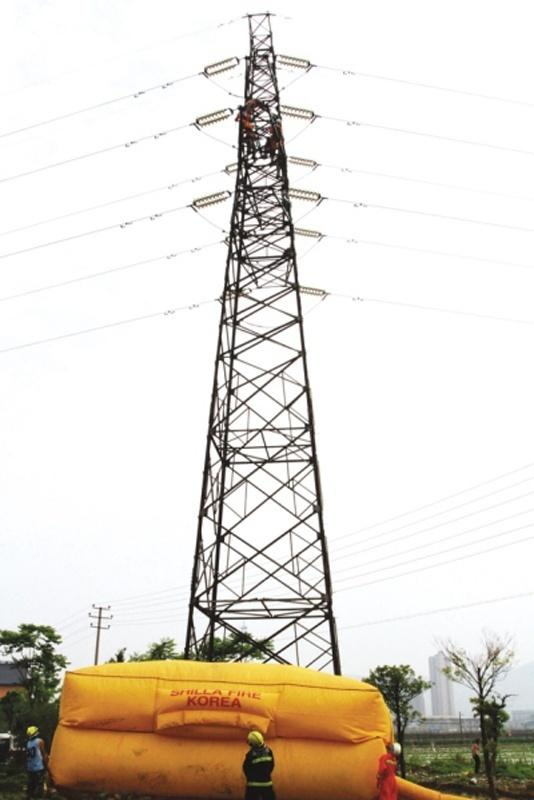power_tower: (174, 13, 350, 677)
